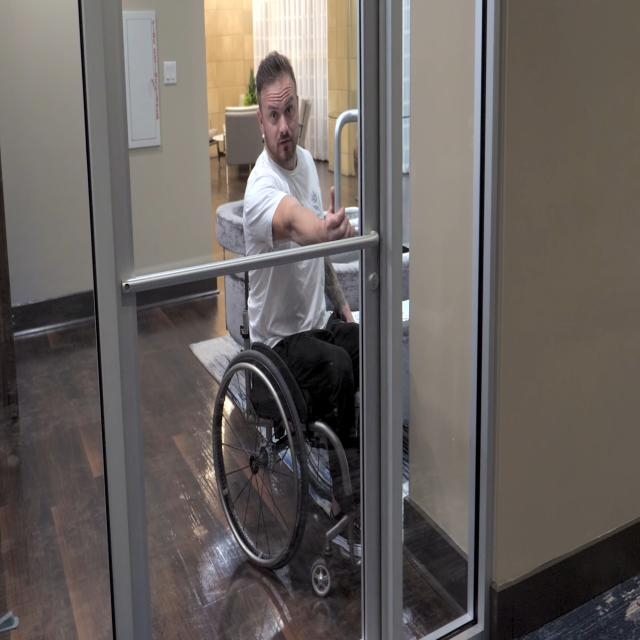wheelchairs: (209, 241, 395, 609)
